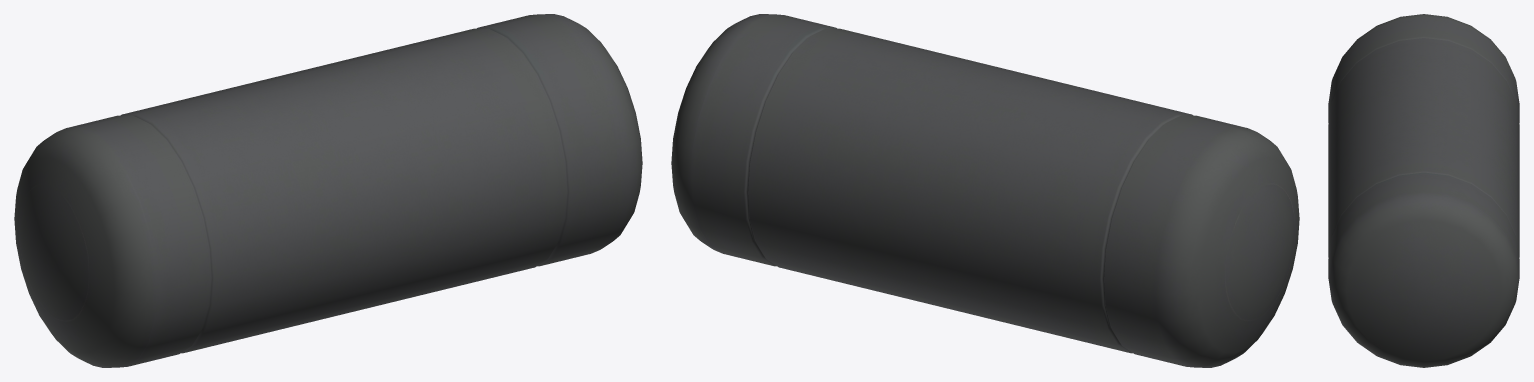
Rendered from utility-fuel-shell-tripo-original.glb.
3 renders of one model, left to right at view 1: azimuth 30°, elevation 25°; view 2: azimuth 150°, elevation 25°; view 3: azimuth 270°, elevation 25°, orthographic. The views are drawn at different scales.
Parts seen in each view (by area): view 1: Authored_surface; view 2: Authored_surface; view 3: Authored_surface.
Boxes of the visible parts, x1=… form: Authored_surface: x1=14, y1=14, x2=642, y2=367; Authored_surface: x1=671, y1=14, x2=1299, y2=367; Authored_surface: x1=1328, y1=14, x2=1519, y2=367.
Bounding box in the file's own units: 1 × 0.375 × 0.375.
Materials: 1 (1 with a texture image).
